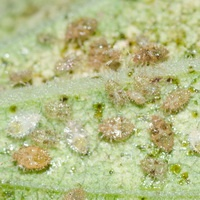insect: (53, 16, 120, 75), (11, 145, 51, 172), (97, 115, 134, 142), (149, 114, 174, 153), (132, 42, 169, 66), (160, 88, 191, 115)
